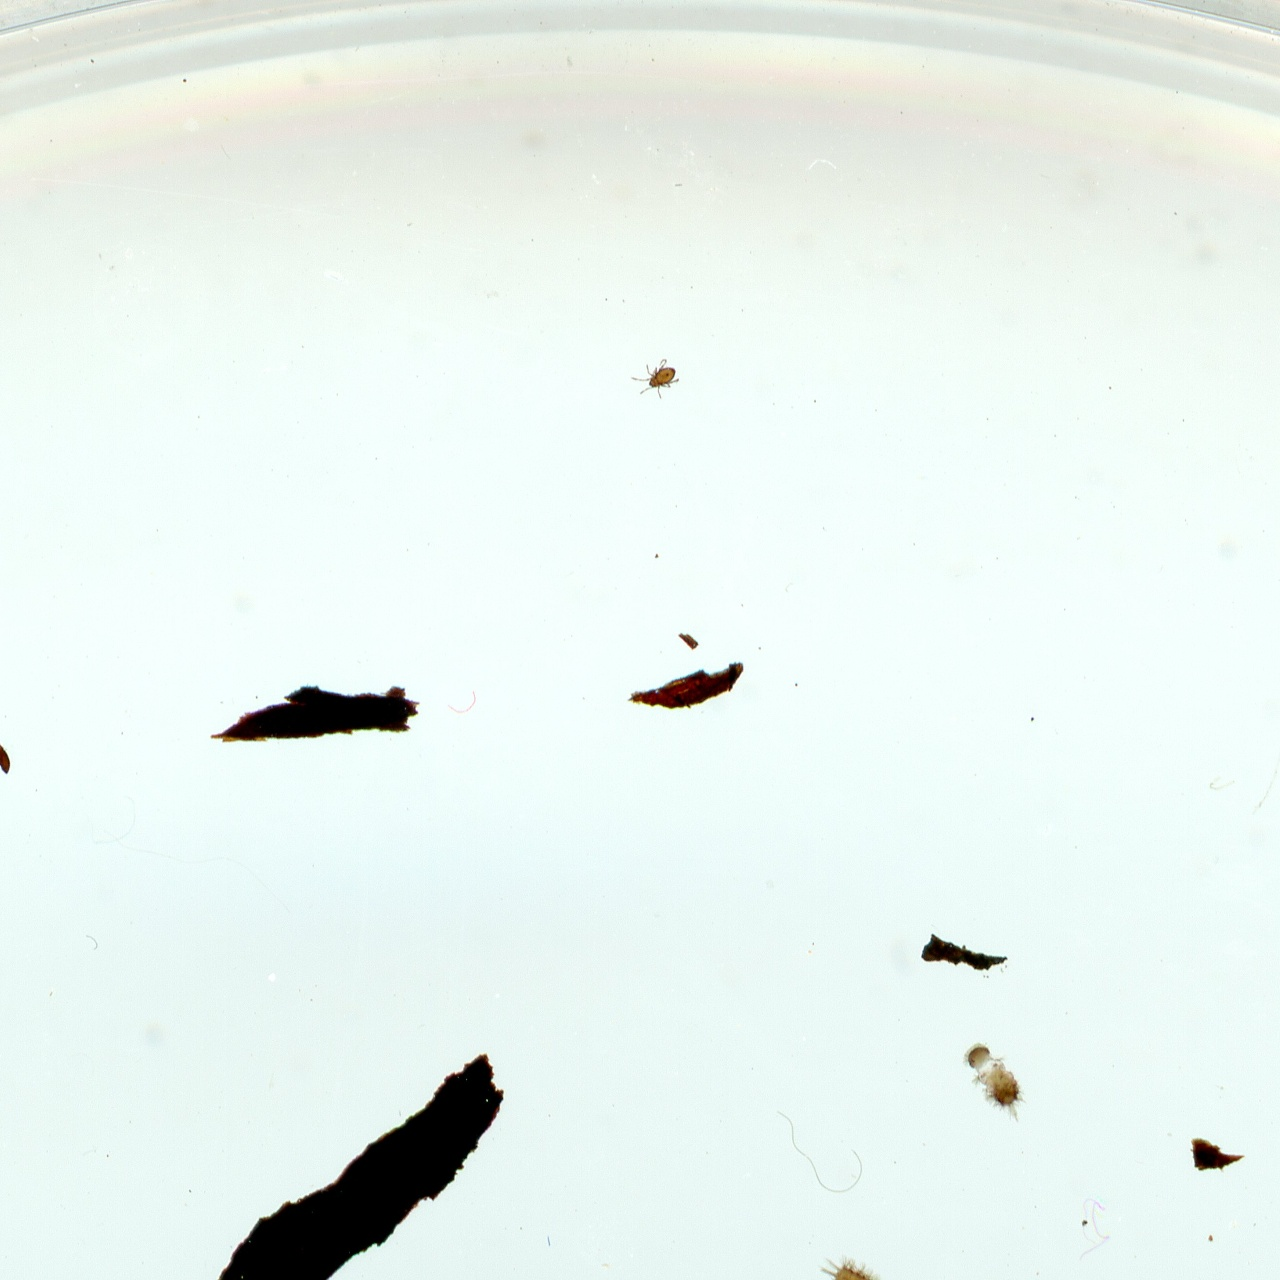arthropod: (948, 1029, 1049, 1135), (806, 1239, 903, 1280), (626, 349, 686, 409), (0, 738, 18, 781)
